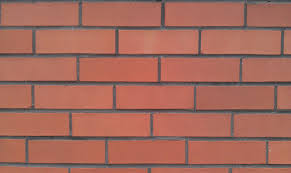brick: (117, 28, 200, 55), (164, 1, 245, 28), (35, 28, 116, 55), (160, 56, 241, 83), (70, 111, 151, 138), (79, 56, 159, 83), (34, 83, 114, 110), (1, 55, 78, 83), (200, 29, 282, 55), (81, 1, 162, 27), (1, 1, 80, 27), (115, 84, 194, 110), (186, 139, 265, 165), (152, 112, 230, 138), (195, 85, 275, 110), (28, 139, 105, 164), (1, 111, 70, 137), (234, 113, 291, 139), (241, 57, 291, 83), (247, 1, 291, 28), (1, 28, 34, 54), (1, 84, 33, 110), (1, 138, 27, 163), (267, 140, 291, 165)
